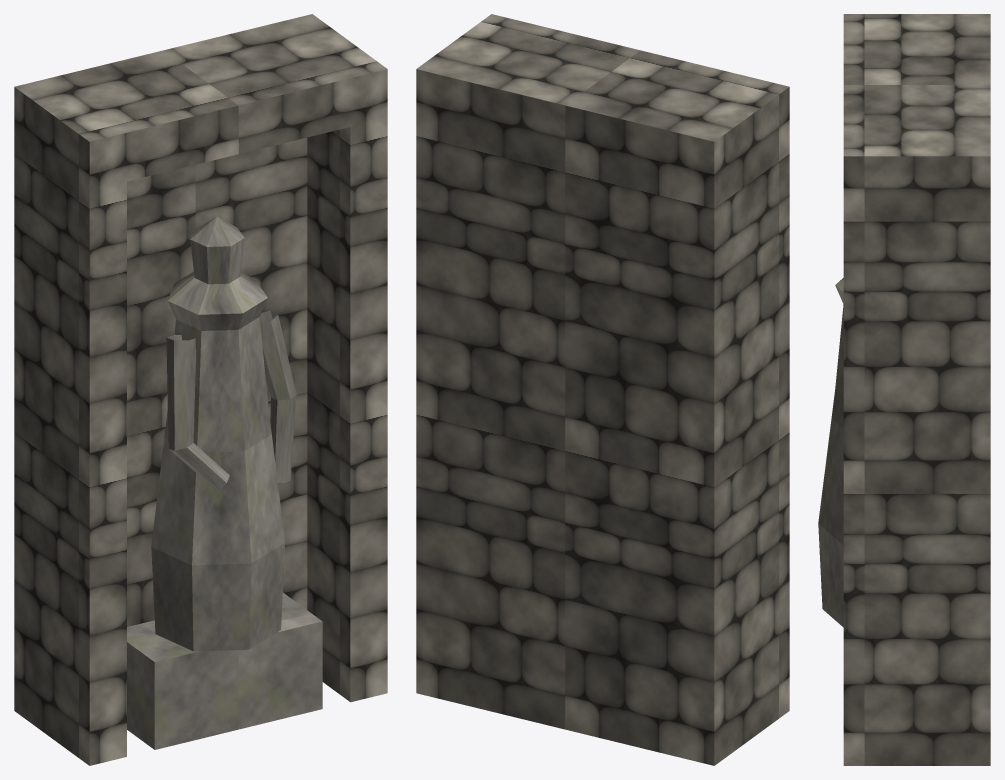
File: Statue_Niche_1_LOD1.gltf
3 renders of one model, left to right at view 1: azimuth 30°, elevation 25°; view 2: azimuth 150°, elevation 25°; view 3: azimuth 270°, elevation 25°, orthographic. The views are drawn at different scales.
Parts seen in each view (by area): view 1: Statue_Niche_1_LOD1; view 2: Statue_Niche_1_LOD1; view 3: Statue_Niche_1_LOD1.
Part boxes in pixels (x1,y1,x2,y2): Statue_Niche_1_LOD1: [14, 14, 387, 765]; Statue_Niche_1_LOD1: [416, 14, 789, 765]; Statue_Niche_1_LOD1: [818, 14, 990, 765].
Bounding box in the file's own units: 1.6 × 3.2 × 0.82.
2 materials, 2 textured.
